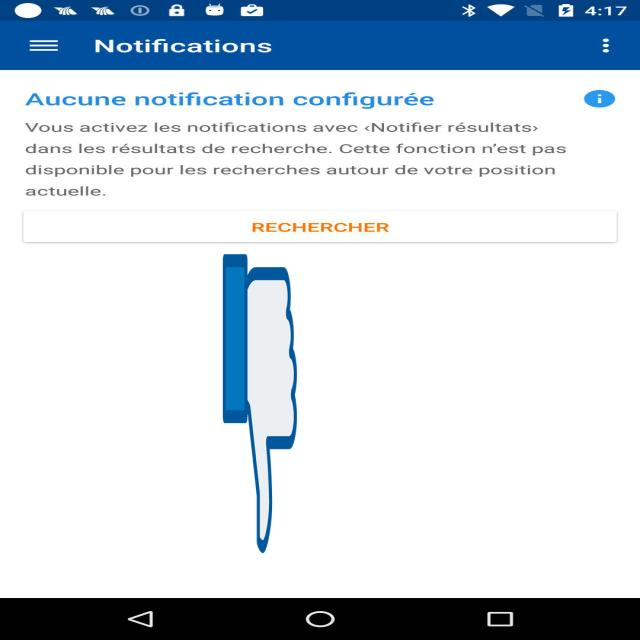obstruction: (223, 248, 297, 560)
